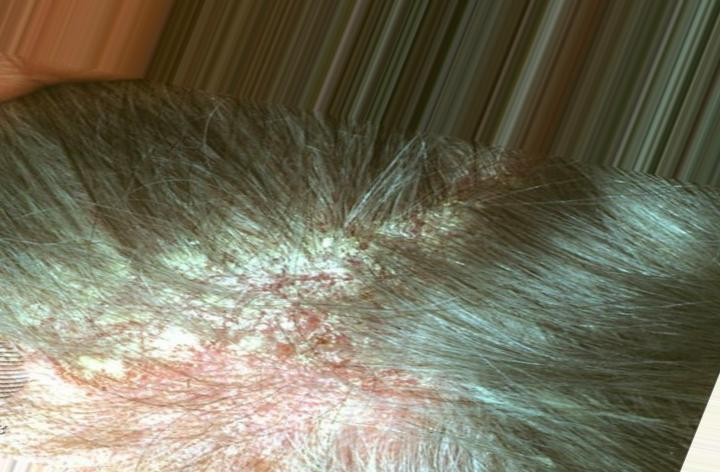Contact Dermatitis: (60, 165, 402, 432)
